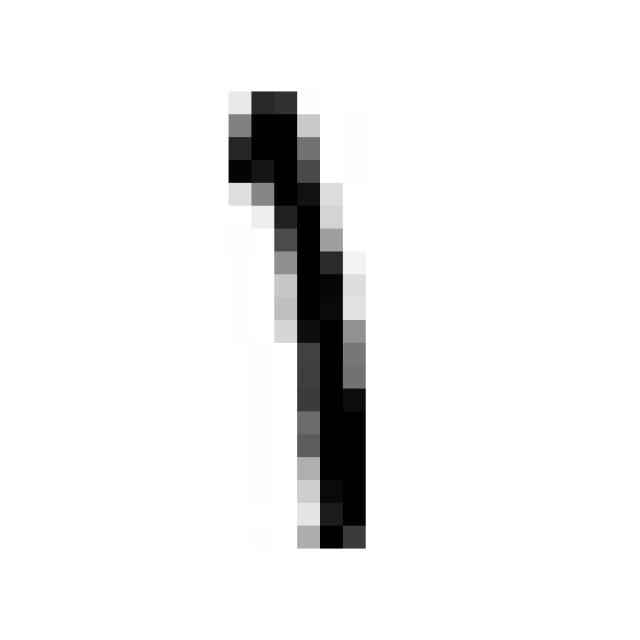1 -one-: (206, 76, 388, 574)
